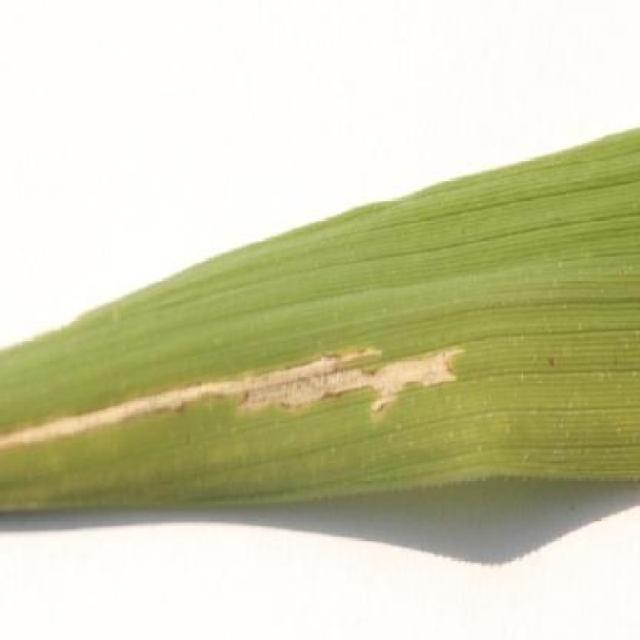Brown_Spot: (0, 314, 471, 488)
